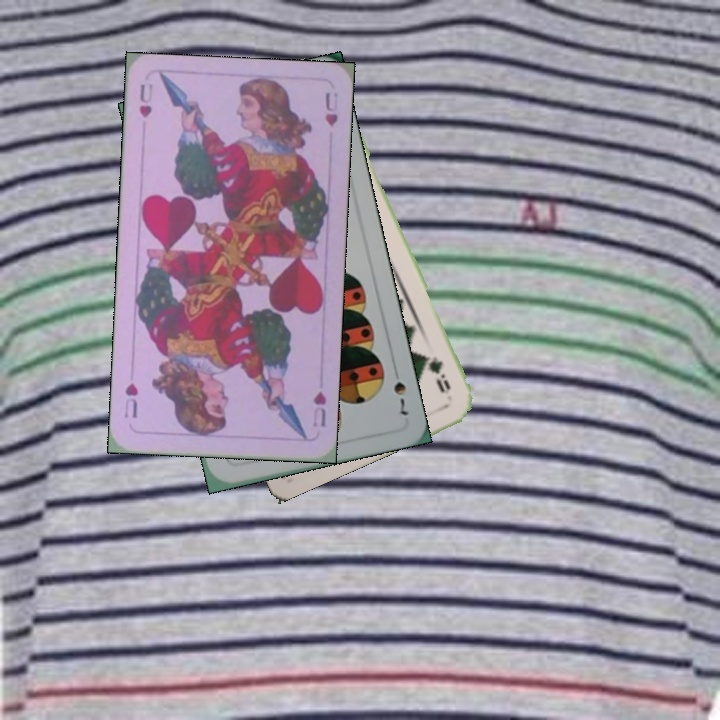G9: (421, 349, 453, 396)
HU: (135, 79, 156, 120), (309, 387, 329, 430)
S7: (389, 362, 410, 418)
